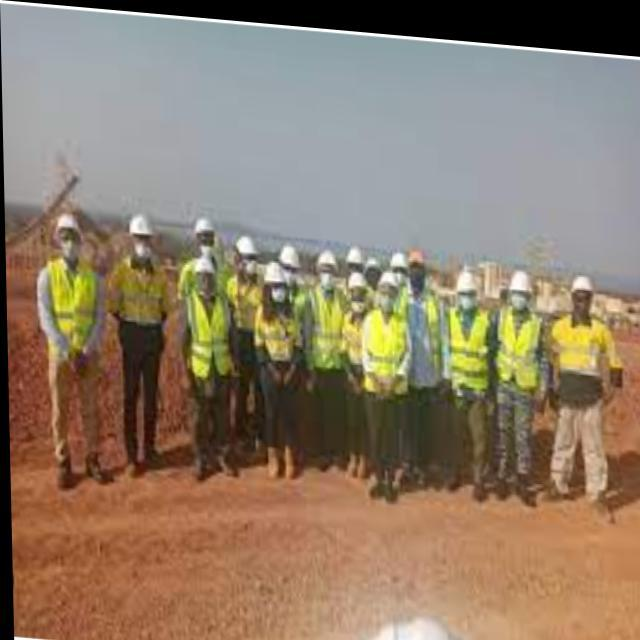boots: (537, 477, 615, 525), (53, 452, 110, 492), (124, 442, 169, 479), (193, 451, 239, 485), (446, 469, 488, 503), (497, 472, 536, 508), (367, 470, 399, 506)
helmet: (51, 211, 84, 262), (128, 212, 157, 263), (262, 261, 288, 305), (568, 272, 594, 316), (508, 267, 534, 311), (236, 234, 262, 277), (193, 258, 219, 301), (193, 215, 217, 259), (316, 249, 339, 293), (346, 269, 368, 313), (279, 244, 302, 286), (378, 270, 399, 311), (457, 271, 478, 309), (387, 250, 410, 283), (346, 245, 365, 278), (364, 255, 382, 286)
vest: (550, 313, 627, 397), (43, 258, 99, 362), (105, 254, 175, 333), (254, 300, 304, 391), (184, 290, 233, 382), (361, 306, 409, 399), (493, 305, 544, 392), (177, 255, 229, 339), (445, 305, 493, 394), (399, 288, 443, 376), (227, 272, 271, 360), (308, 285, 346, 374), (343, 310, 376, 372), (279, 281, 309, 345)
